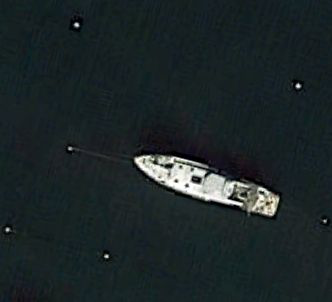boat: (132, 152, 281, 219)
